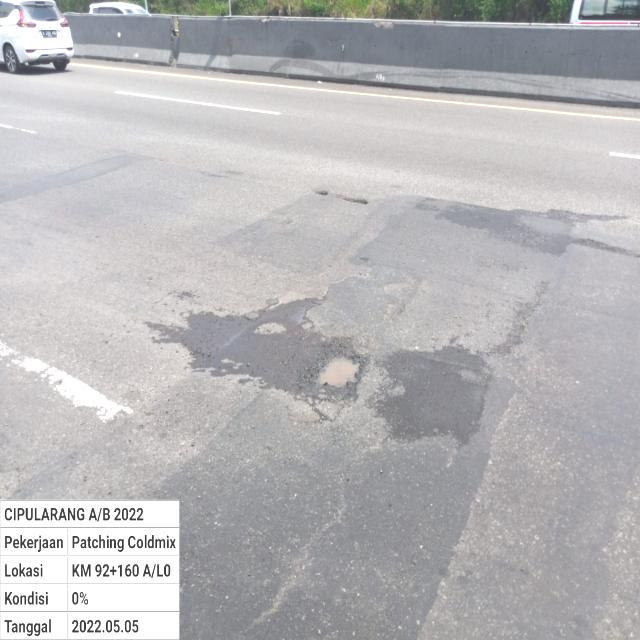Buraco: (300, 348, 370, 392), (310, 187, 372, 207)
